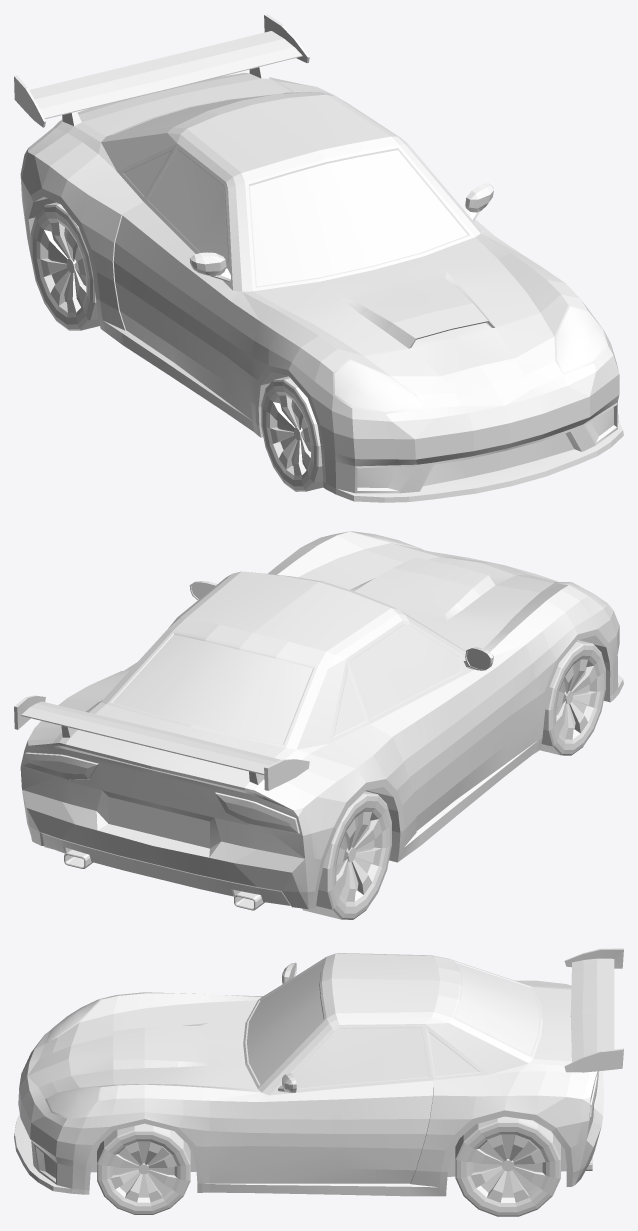
The model's file is TestCar.gltf.
3 renders of one model, top to bottom at view 1: azimuth 30°, elevation 25°; view 2: azimuth 150°, elevation 25°; view 3: azimuth 270°, elevation 25°, orthographic. The views are drawn at different scales.
Parts seen in each view (by area): view 1: Body, Glass, rear_right_wheel, right_front_wheel; view 2: Body, Glass, rear_right_wheel, right_front_wheel; view 3: Body, Glass, left_rear_wheel, left_front_wheel.
Part boxes in pixels (x1=…): Body: x1=14, y1=14, x2=623, y2=502; Glass: x1=113, y1=93, x2=607, y2=413; rear_right_wheel: x1=30, y1=202, x2=99, y2=330; right_front_wheel: x1=261, y1=376, x2=323, y2=491; Body: x1=14, y1=531, x2=623, y2=910; Glass: x1=23, y1=531, x2=607, y2=833; rear_right_wheel: x1=302, y1=791, x2=391, y2=919; right_front_wheel: x1=540, y1=640, x2=605, y2=755; Body: x1=14, y1=948, x2=623, y2=1196; Glass: x1=45, y1=961, x2=598, y2=1118; left_rear_wheel: x1=455, y1=1116, x2=560, y2=1216; left_front_wheel: x1=97, y1=1123, x2=190, y2=1214.
Bounding box in the file's own units: 1.93 × 1.32 × 4.08.
4 materials, 4 textured.
